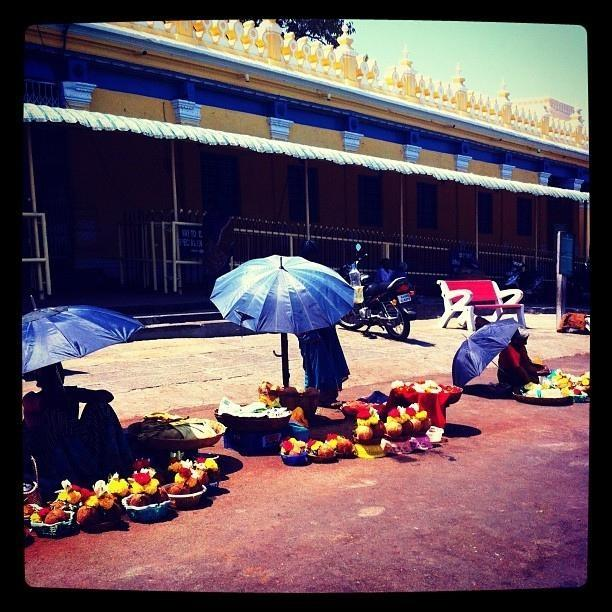motorcycle: (334, 243, 416, 338)
